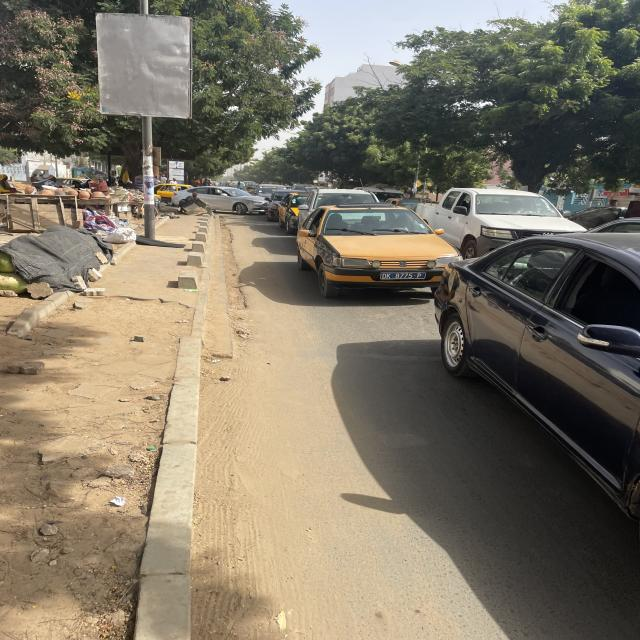arret tata: (409, 180, 440, 192)
particulier: (431, 232, 640, 524), (414, 188, 592, 270), (167, 186, 269, 221), (301, 188, 384, 231)
taxi: (293, 206, 466, 302), (277, 189, 316, 235), (150, 182, 196, 206)
